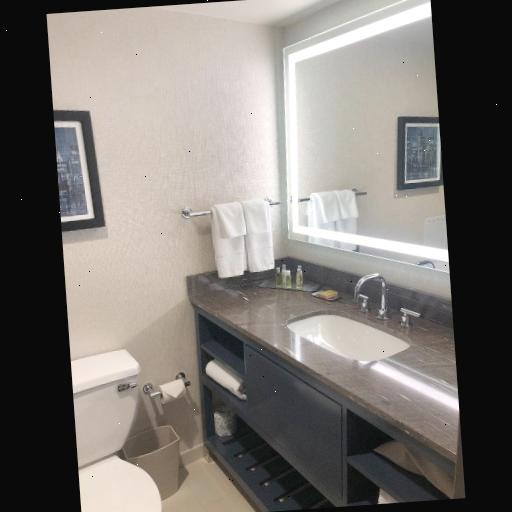clean mirror: (281, 0, 448, 276)
clean_sink: (197, 252, 459, 459)
clean_toilet: (70, 349, 168, 512)
folded_towel: (203, 196, 283, 288)
